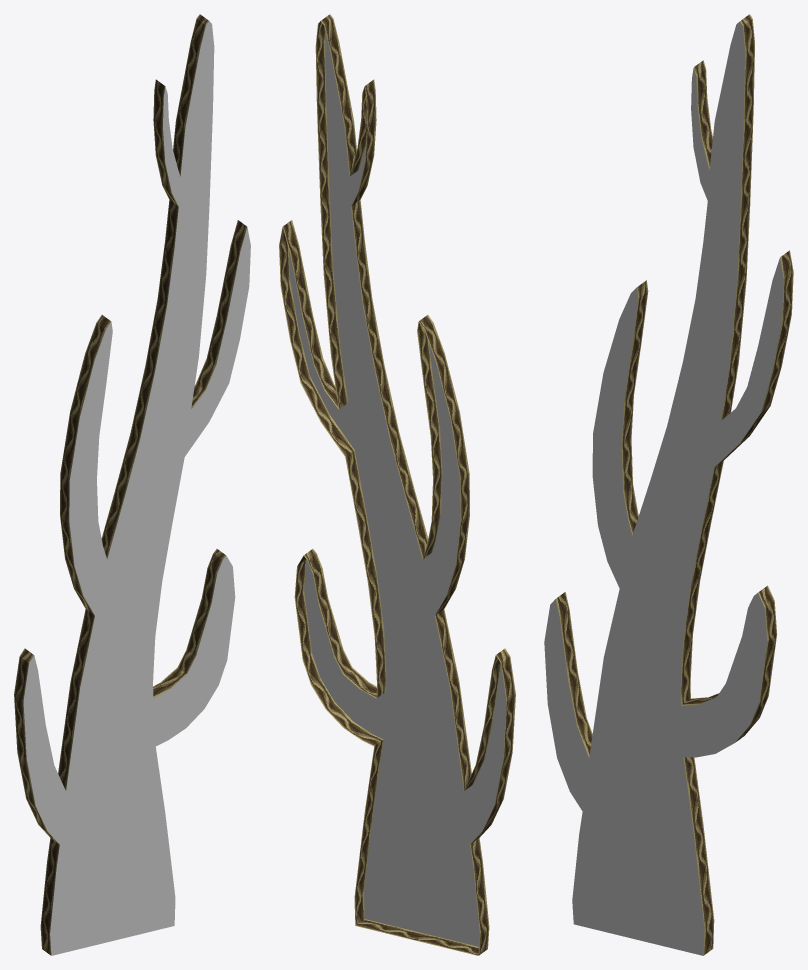
The model's file is tree_06.fbx.
3 views of the same model, side by side, from view 1: azimuth 30°, elevation 25°; view 2: azimuth 150°, elevation 25°; view 3: azimuth 330°, elevation 25° (orthographic). The views are drawn at different scales.
Visible parts, largest first — view 1: tree_06; view 2: tree_06; view 3: tree_06.
Boxes of the visible parts, left/top/right/bottom form: tree_06: left=14, top=14, right=250, bottom=955; tree_06: left=279, top=14, right=515, bottom=955; tree_06: left=544, top=14, right=793, bottom=955.
Size of the model in its own units: 1.1 by 4.16 by 0.0795.
